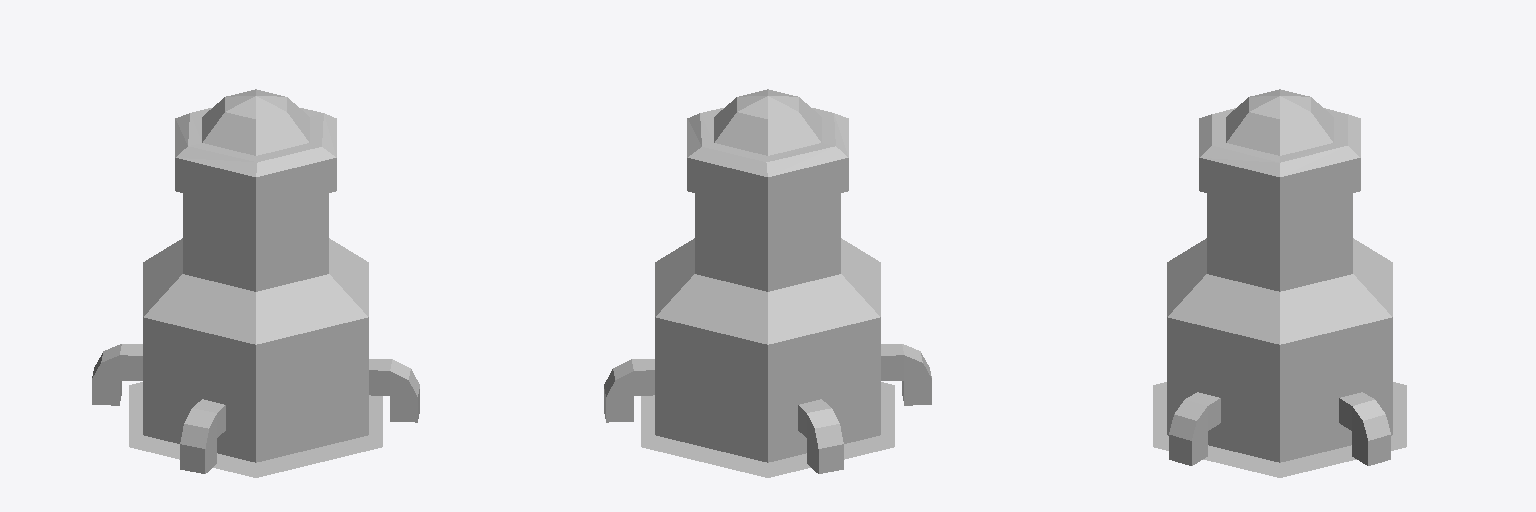
Rendered from Professor Rowan's Machine.obj.
The picture shows the model from 3 angles: view 1: azimuth 30°, elevation 25°; view 2: azimuth 150°, elevation 25°; view 3: azimuth 270°, elevation 25°; orthographic projection.
Parts seen in each view (by area): view 1: polygon3, polygon1, polygon2, polygon0; view 2: polygon3, polygon1, polygon2, polygon0; view 3: polygon3, polygon1, polygon2, polygon0.
Boxes of the visible parts, x1,y1,x2,y2 form: polygon3: [92, 89, 419, 473]; polygon1: [183, 193, 328, 291]; polygon2: [162, 238, 349, 319]; polygon0: [129, 382, 382, 477]; polygon3: [604, 89, 931, 473]; polygon1: [695, 193, 840, 291]; polygon2: [674, 238, 861, 319]; polygon0: [641, 382, 894, 477]; polygon3: [1167, 89, 1392, 465]; polygon1: [1207, 193, 1352, 291]; polygon2: [1186, 238, 1373, 319]; polygon0: [1153, 382, 1406, 477].
Bounding box in the file's own units: 37.84 × 45.63 × 32.77.